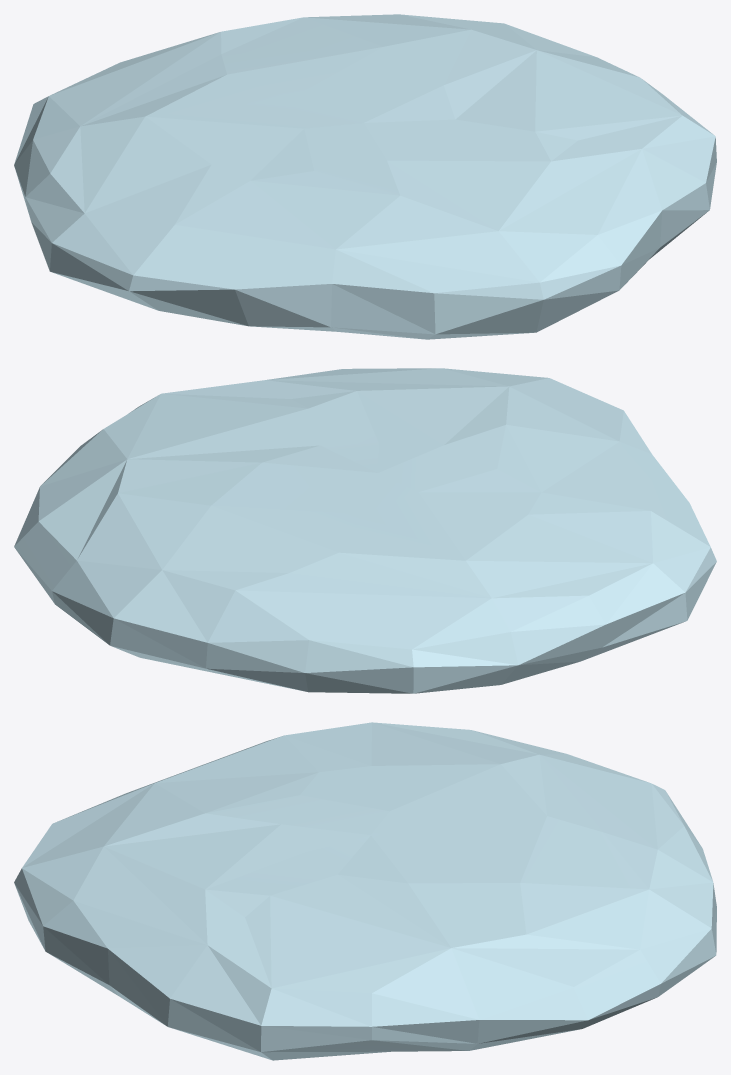
File: worlds_SM_Env_Ground_Blob_01.gltf
The picture shows the model from 3 angles, top to bottom: view 1: azimuth 30°, elevation 25°; view 2: azimuth 150°, elevation 25°; view 3: azimuth 270°, elevation 25°; orthographic projection.
Parts seen in each view (by area): view 1: SM_Env_Ground_Blob_01; view 2: SM_Env_Ground_Blob_01; view 3: SM_Env_Ground_Blob_01.
Part boxes in pixels (x1,y1,x2,y2): SM_Env_Ground_Blob_01: [14, 14, 716, 339]; SM_Env_Ground_Blob_01: [14, 368, 716, 693]; SM_Env_Ground_Blob_01: [14, 722, 716, 1060].
Size of the model in its own units: 9.16 by 1.89 by 9.09.
1 material, 1 textured.
